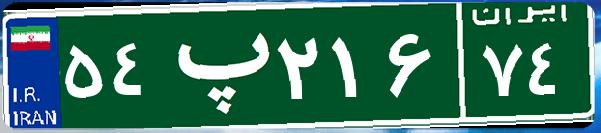1: (330, 28, 385, 110)
2: (273, 28, 330, 110)
4: (110, 28, 158, 105), (525, 38, 570, 115)
5: (57, 26, 110, 107)
6: (385, 28, 445, 110)
7: (475, 38, 525, 113)
پ: (158, 15, 273, 115)
